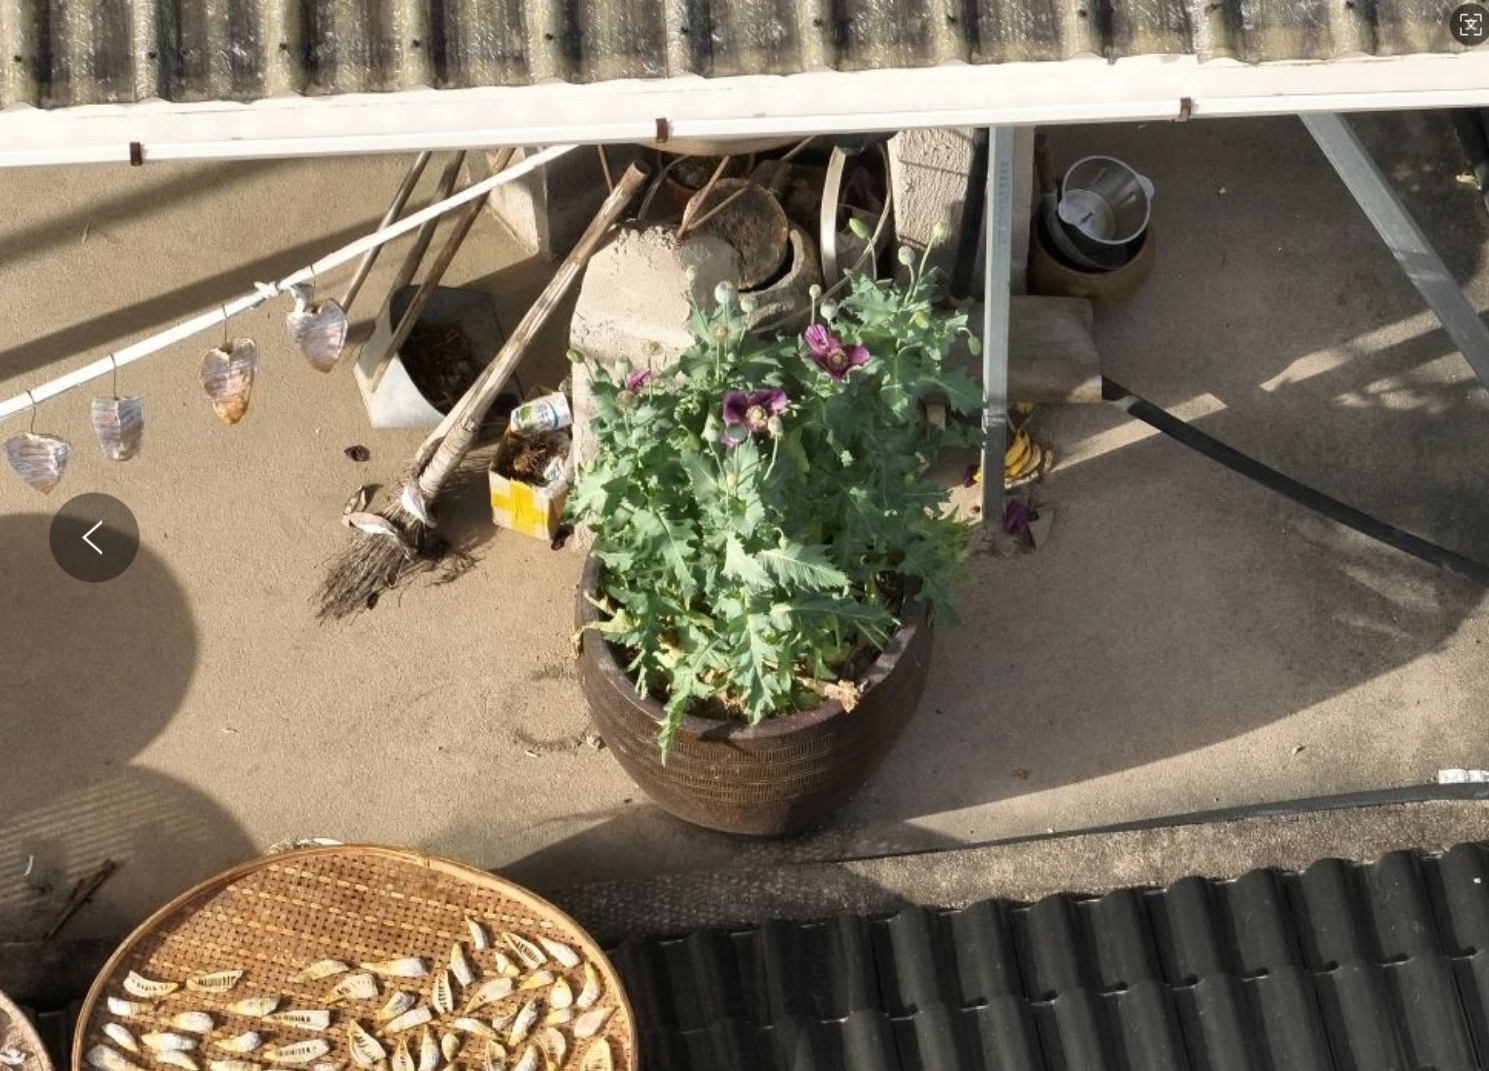Poppy: (571, 221, 985, 770)
